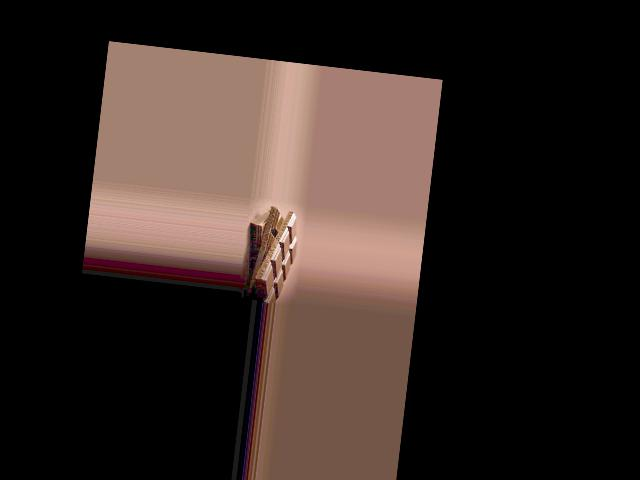chocolate: (247, 205, 300, 302)
